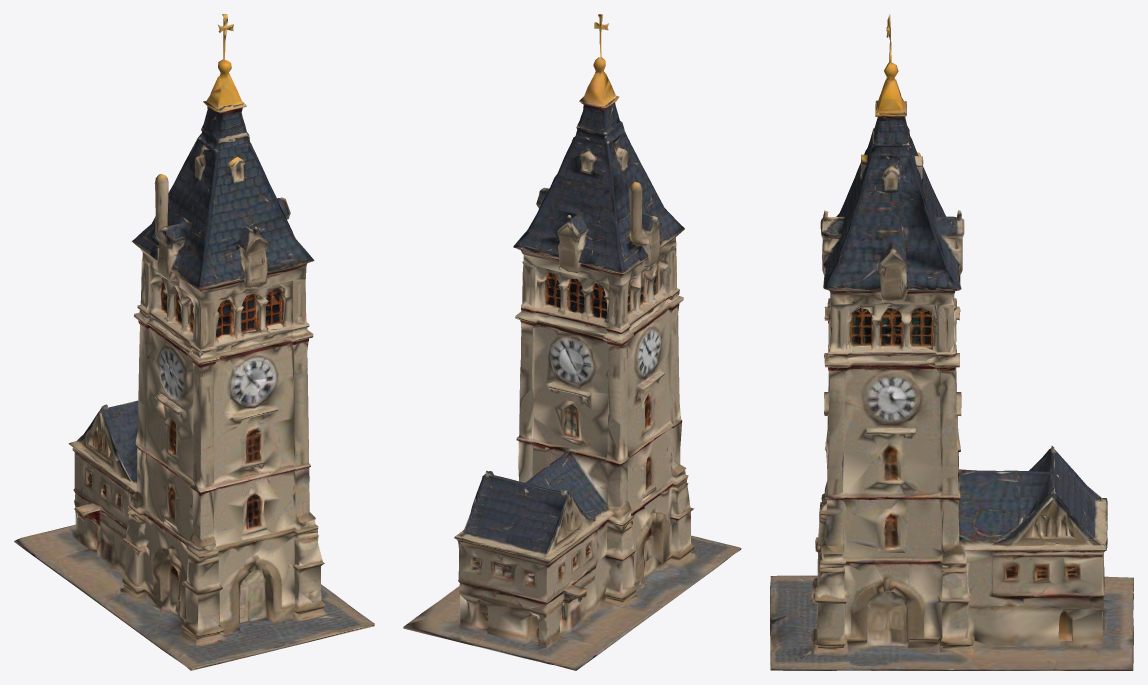
The model's file is clock-tower.glb.
3 renders of one model, left to right at view 1: azimuth 30°, elevation 25°; view 2: azimuth 150°, elevation 25°; view 3: azimuth 270°, elevation 25°, orthographic. The views are drawn at different scales.
Size of the model in its own units: 0.6224 by 1.9 by 1.03.
Materials: 1 (1 with a texture image).
